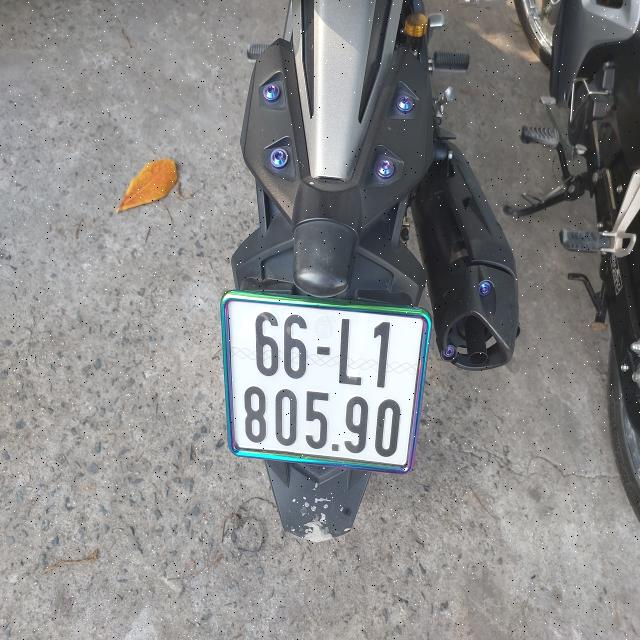0: (376, 398, 402, 460), (272, 387, 298, 447)
1: (369, 320, 392, 388)
5: (305, 389, 331, 448)
6: (250, 306, 282, 380), (282, 313, 310, 383)
8: (242, 384, 268, 443)
9: (342, 394, 372, 456)
L: (334, 316, 365, 389)
